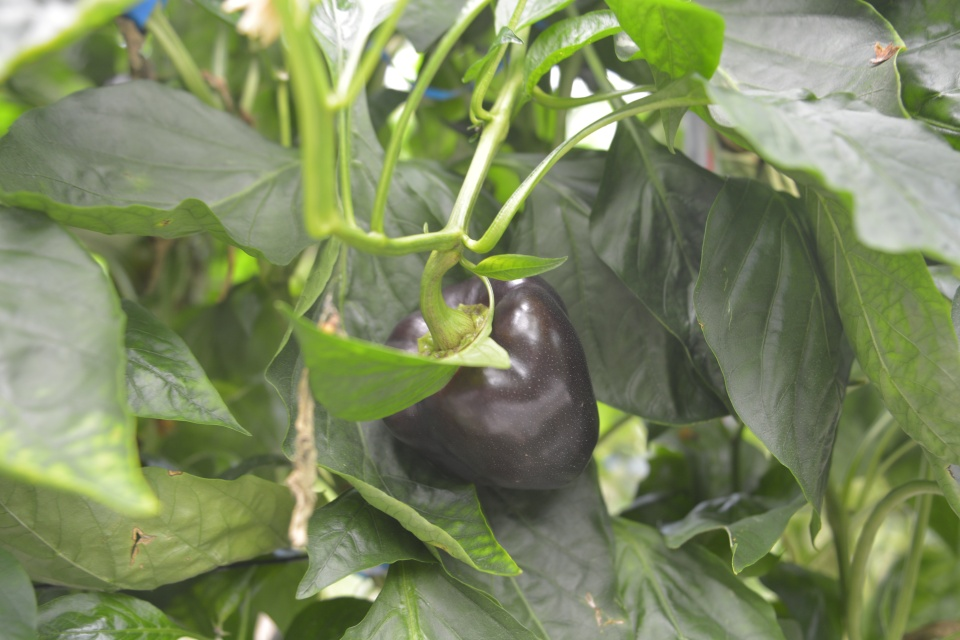fruit: (374, 266, 604, 501)
pedicle: (414, 301, 489, 352)
